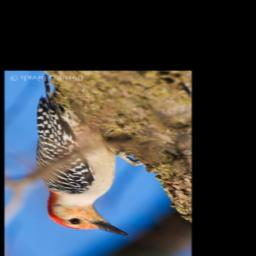Woodpecker: (36, 74, 130, 238)
